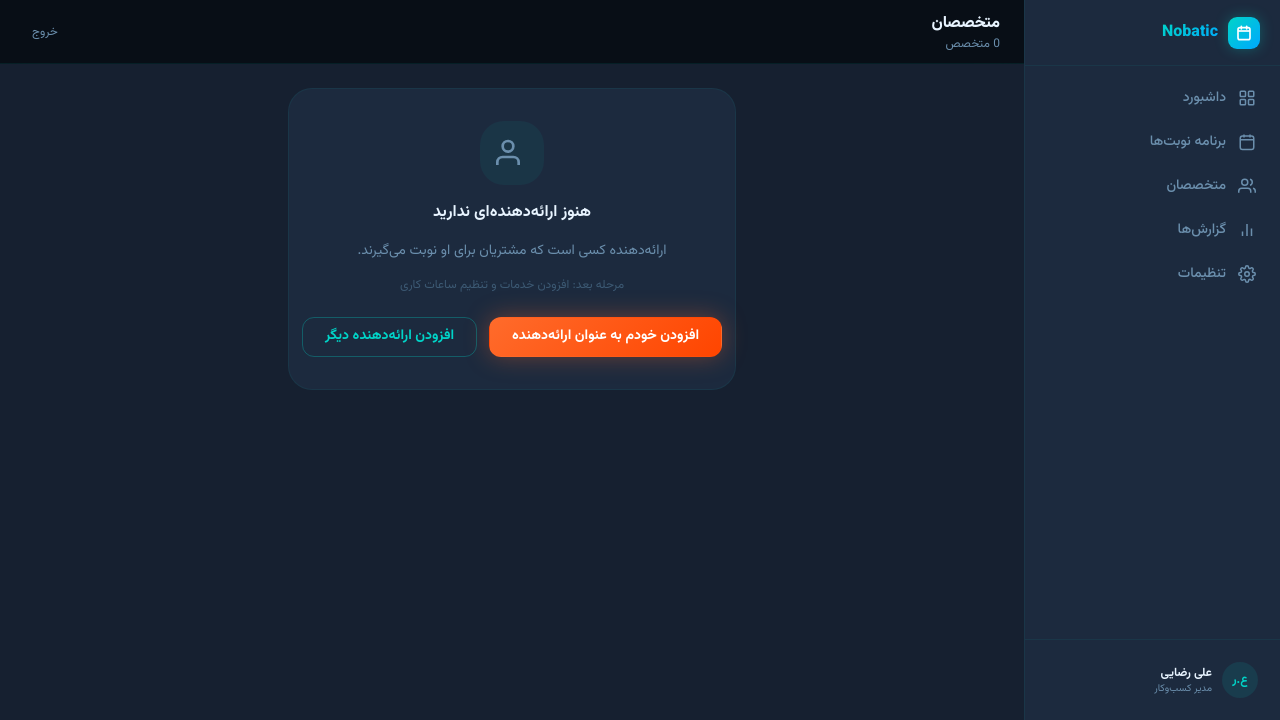
Test: ProvidersPage — solo fast-path errors › shows error toast and resets loading when request fails
Click the button "افزودن خودم به عنوان ارائه‌دهنده".
click(606, 337)  # box top-left (489, 317), bottom-right (722, 356)
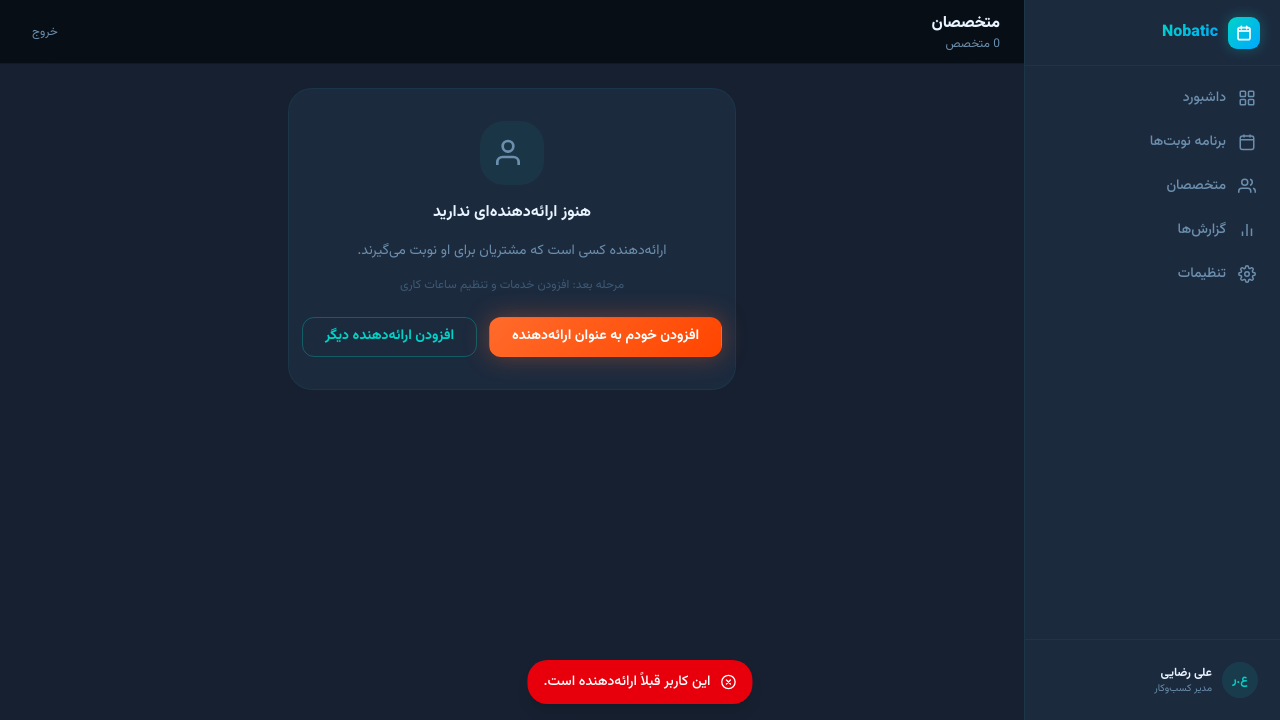
Result: the text "این کاربر قبلاً ارائه‌دهنده است." is shown at top-left (543, 672), bottom-right (710, 692)
